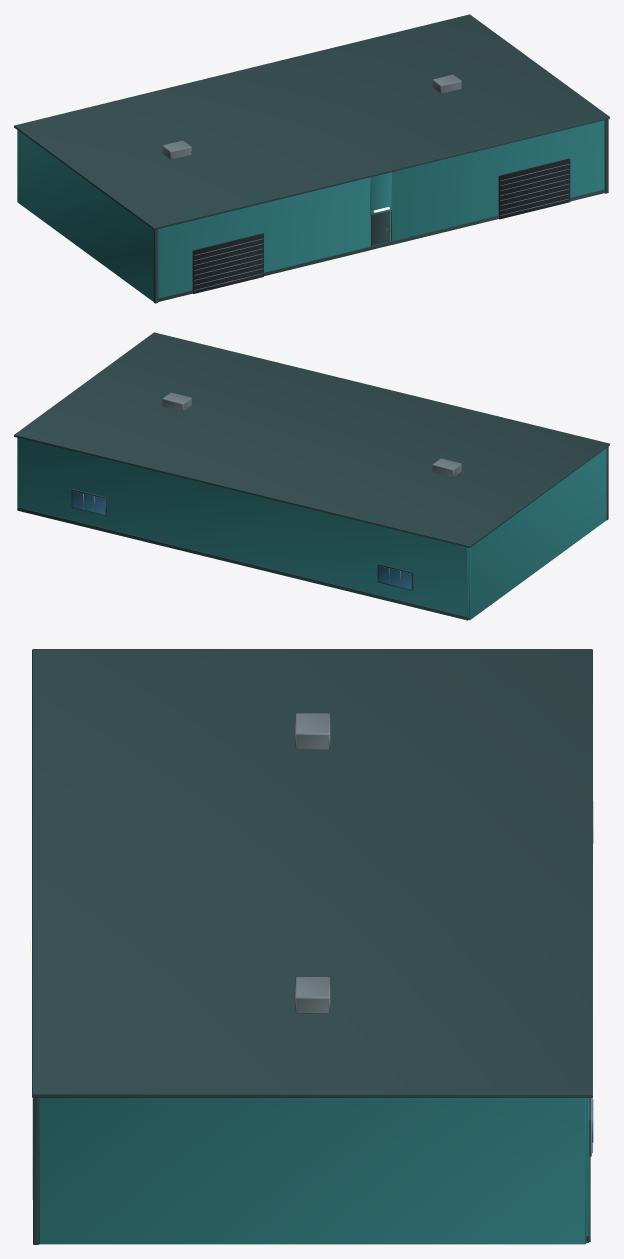
The model's file is north-warehouse.glb.
3 views of the same model, one above another, from view 1: azimuth 30°, elevation 25°; view 2: azimuth 150°, elevation 25°; view 3: azimuth 270°, elevation 25° (orthographic). The views are drawn at different scales.
Visible parts, largest first — view 1: roof_0_trim, shell_0_wall, shell_0_dark, shell_0_trim, shell_0_metal, roof_0_metal, door_0_trim; view 2: roof_0_trim, shell_0_wall, shell_0_trim, shell_0_blue, roof_0_metal; view 3: roof_0_trim, shell_0_wall, roof_0_metal, shell_0_trim.
Part boxes in pixels (x1=…): roof_0_trim: x1=14, y1=14, x2=609, y2=229; shell_0_wall: x1=17, y1=120, x2=604, y2=301; shell_0_dark: x1=192, y1=158, x2=570, y2=293; shell_0_trim: x1=153, y1=119, x2=608, y2=303; shell_0_metal: x1=194, y1=164, x2=569, y2=290; roof_0_metal: x1=162, y1=74, x2=461, y2=159; door_0_trim: x1=370, y1=211, x2=389, y2=245; roof_0_trim: x1=14, y1=332, x2=609, y2=547; shell_0_wall: x1=17, y1=437, x2=606, y2=620; shell_0_trim: x1=17, y1=447, x2=608, y2=620; shell_0_blue: x1=72, y1=491, x2=411, y2=589; roof_0_metal: x1=162, y1=392, x2=461, y2=477; roof_0_trim: x1=32, y1=649, x2=592, y2=1097; shell_0_wall: x1=39, y1=1098, x2=589, y2=1244; roof_0_metal: x1=294, y1=713, x2=330, y2=1013; shell_0_trim: x1=33, y1=1098, x2=591, y2=1244.
Bounding box in the file's own units: 38.5 × 6.8 × 20.56.
